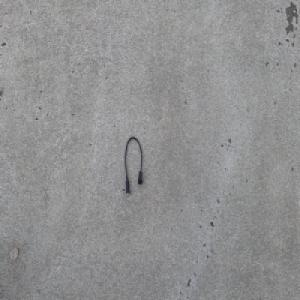Wire: (124, 135, 143, 196)
